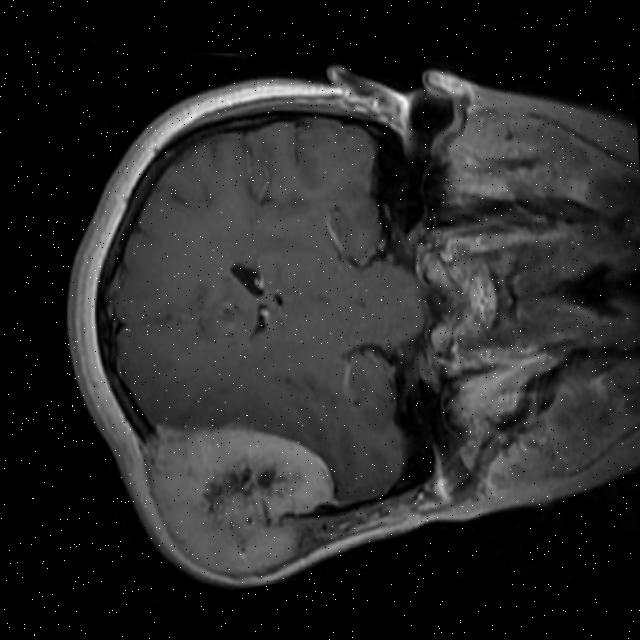Meningioma: (138, 410, 342, 586)
